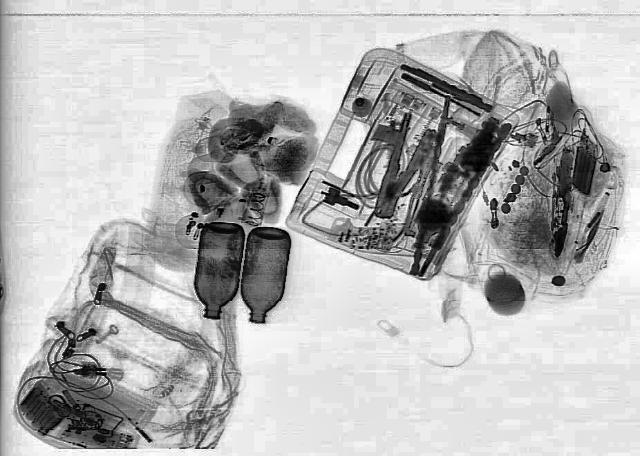Pliers: (358, 122, 442, 220)
